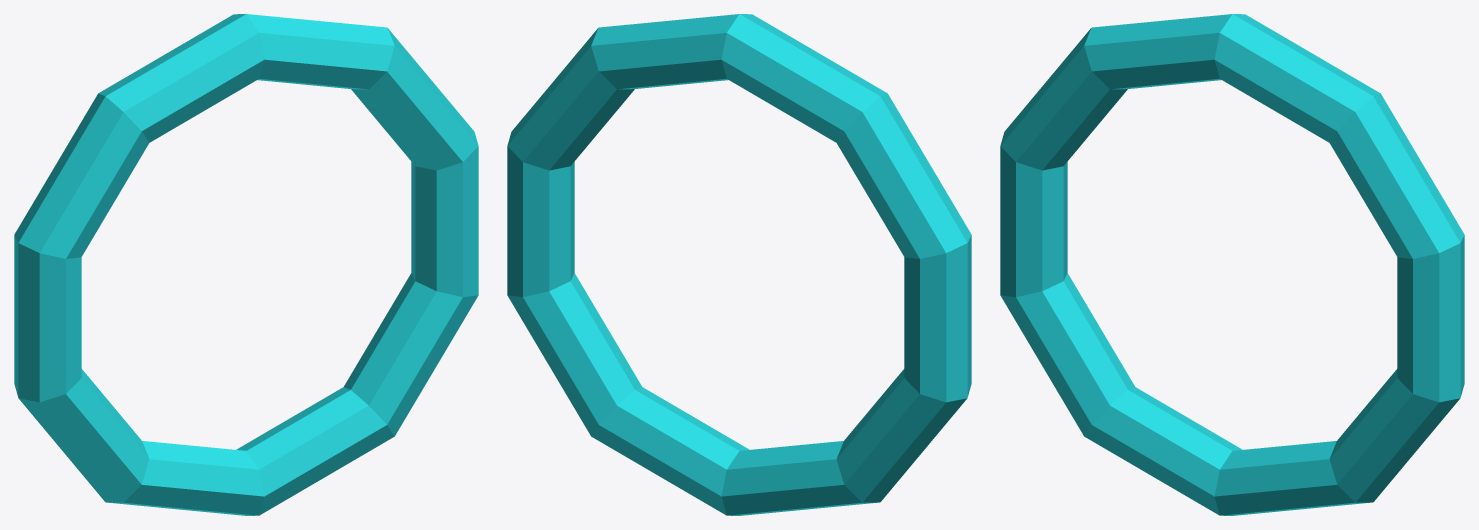
Rendered from ring.glb.
3 views of the same model, side by side, from view 1: azimuth 30°, elevation 25°; view 2: azimuth 150°, elevation 25°; view 3: azimuth 330°, elevation 25° (orthographic).
Parts seen in each view (by area): view 1: Torus; view 2: Torus; view 3: Torus.
Part boxes in pixels (x1=…): Torus: x1=14, y1=14, x2=478, y2=515; Torus: x1=507, y1=14, x2=971, y2=515; Torus: x1=1000, y1=14, x2=1464, y2=515.
Bounding box in the file's own units: 21.86 × 22.98 × 2.98.
